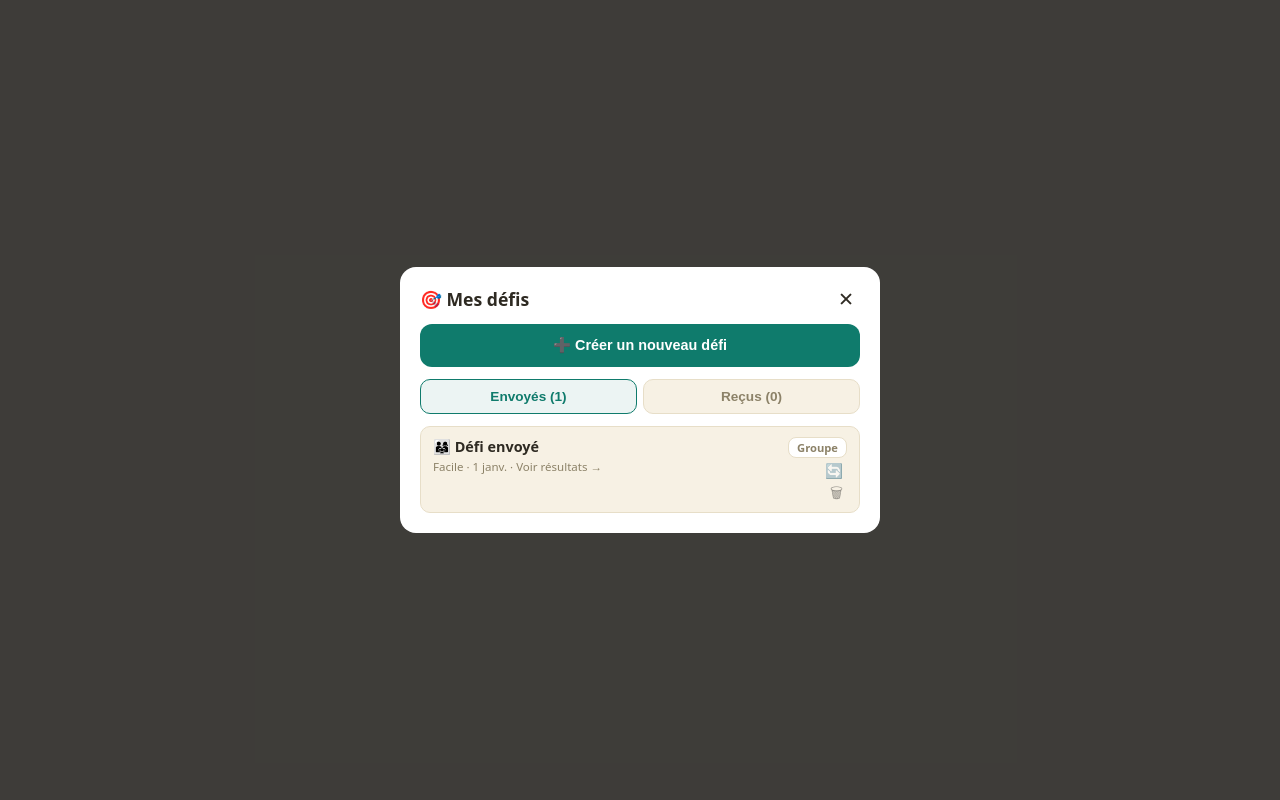
Test case: DefiDashboard — défi de groupe sans score initial du challenger › affiche aussi un participant tiers (ami ou candidat libre) aux côtés du résultat de l'expéditeur
Click the element with class "defi-row": [640, 470] box [420,426,860,513]
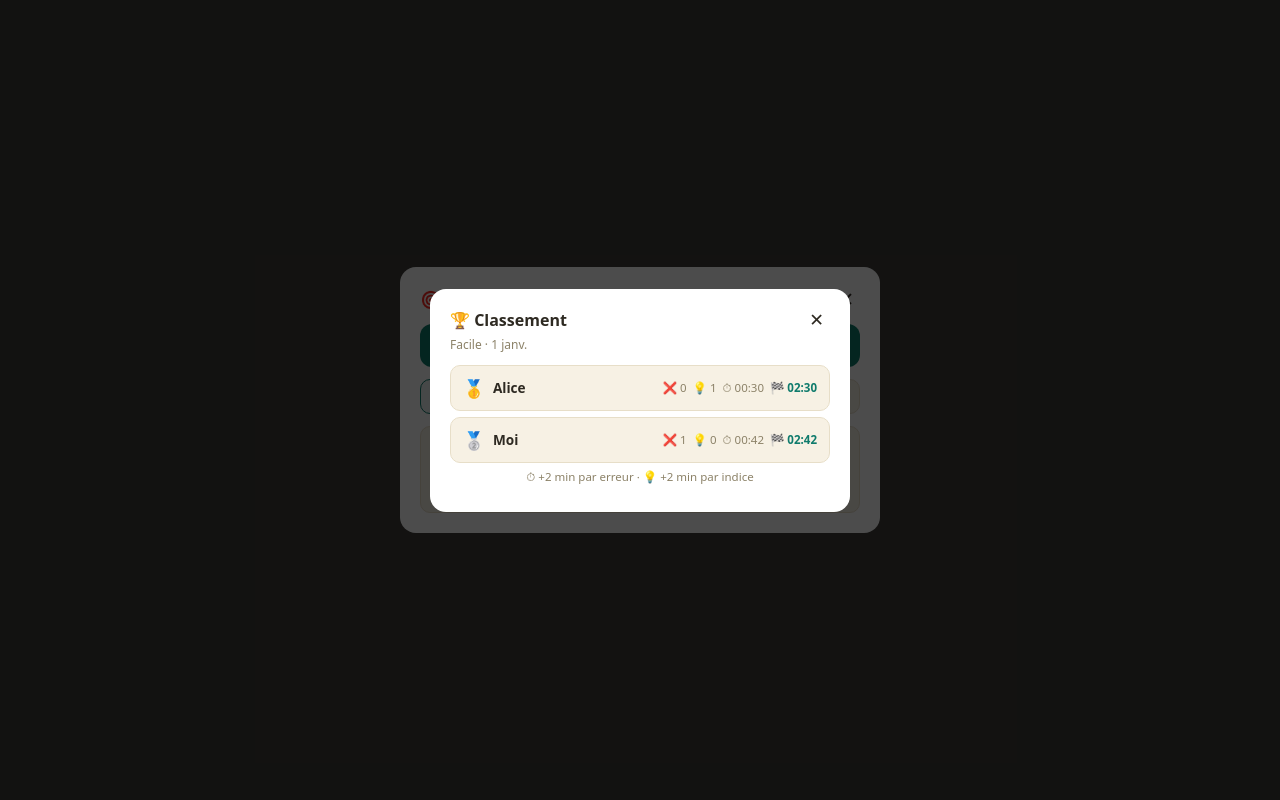
Check: the text "Moi" is shown, box [493,430,518,449]
Check: the text "Alice" is shown, box [493,378,526,397]
